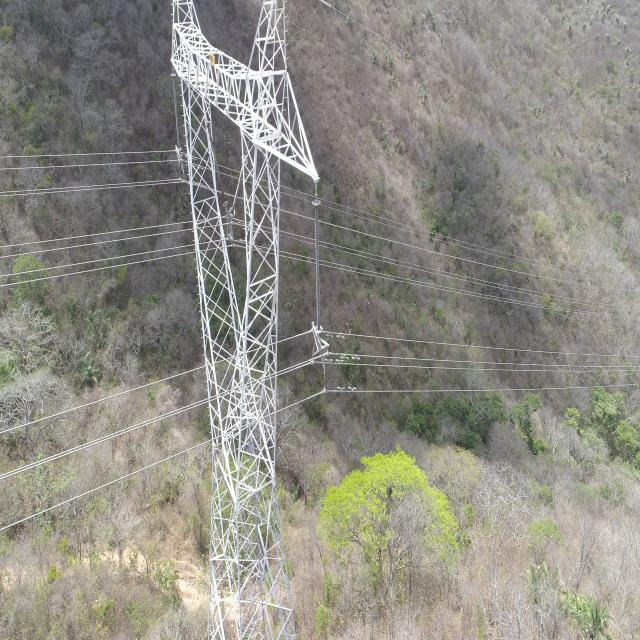杆塔: (183, 1, 301, 639)
正常电缆: (333, 225, 640, 297), (335, 262, 640, 323), (0, 447, 180, 536), (0, 404, 181, 484), (0, 368, 181, 442), (338, 327, 640, 361), (329, 377, 640, 403), (0, 251, 182, 291), (0, 243, 182, 279), (0, 227, 181, 261), (352, 358, 640, 377), (0, 221, 181, 249), (0, 177, 179, 194), (0, 181, 182, 197), (0, 159, 168, 171), (0, 149, 167, 159)
正常绝缘子: (309, 192, 328, 364), (168, 54, 189, 173)
